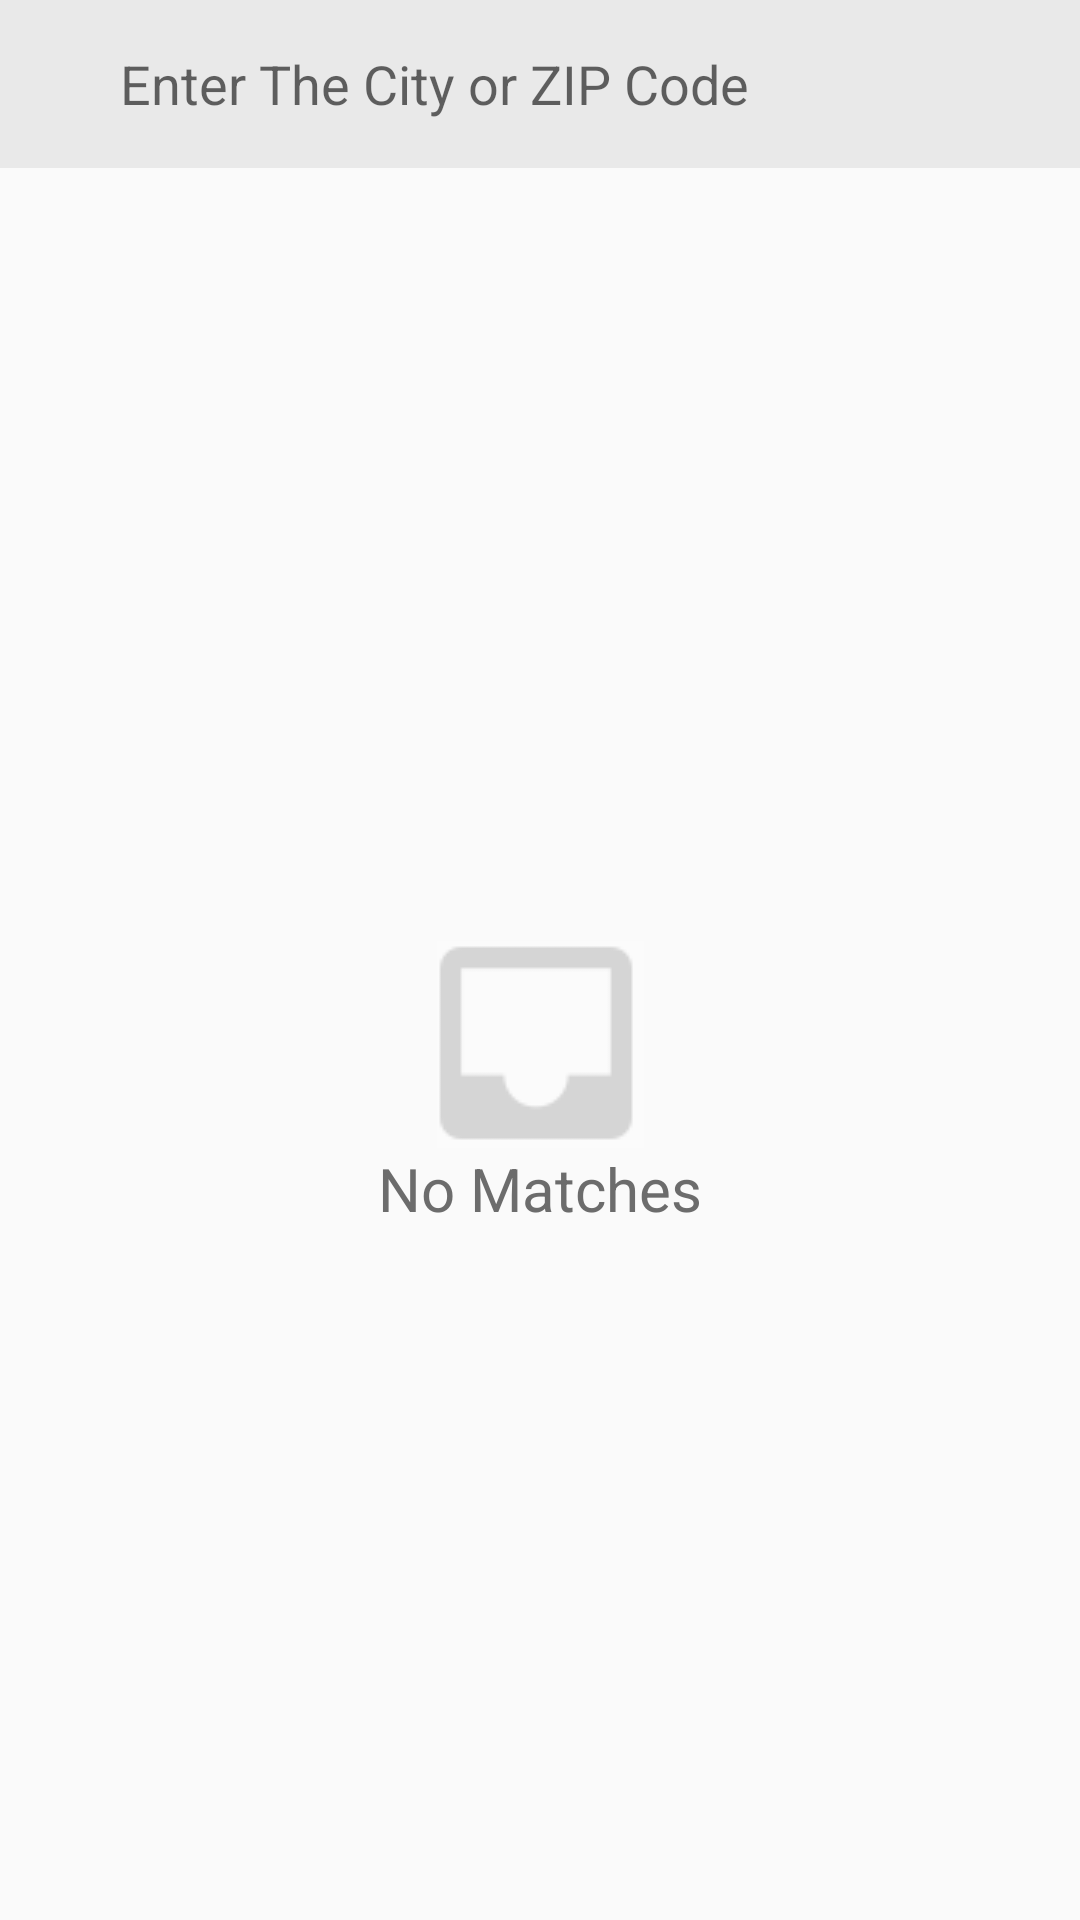

Point at icon controls on the screen. Image size 1080x1920, points as (x,y).
empty: (536,1043)
